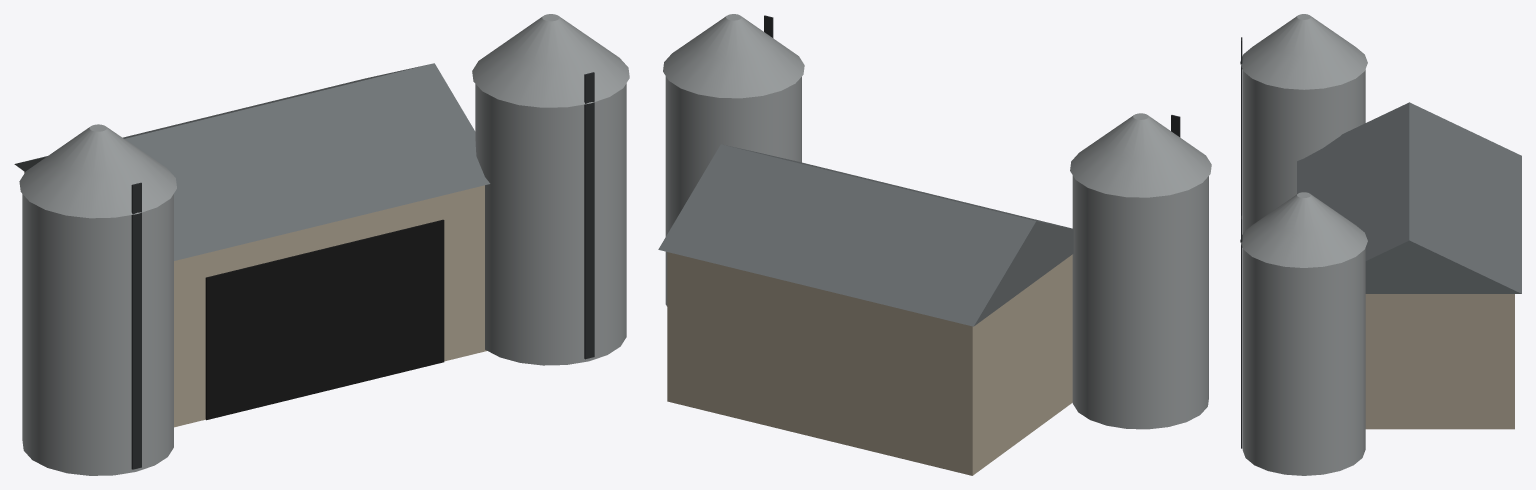
The model's file is flour_mill.glb.
3 views of the same model, side by side, from view 1: azimuth 30°, elevation 25°; view 2: azimuth 150°, elevation 25°; view 3: azimuth 270°, elevation 25° (orthographic). The views are drawn at different scales.
Visible parts, largest first — view 1: shed, silo_1, silo_2; view 2: shed, silo_1, silo_2; view 3: shed, silo_2, silo_1.
Boxes of the visible parts, x1,y1,x2,y2 form: shed: (14,63,490,427); silo_1: (19,124,176,475); silo_2: (472,14,629,365); shed: (658,144,1073,475); silo_1: (1070,113,1211,429); silo_2: (663,14,804,306); shed: (1297,102,1521,429); silo_2: (1240,192,1367,475); silo_1: (1240,14,1367,233).
Size of the model in its own units: 31.28 by 16.1 by 16.04.
